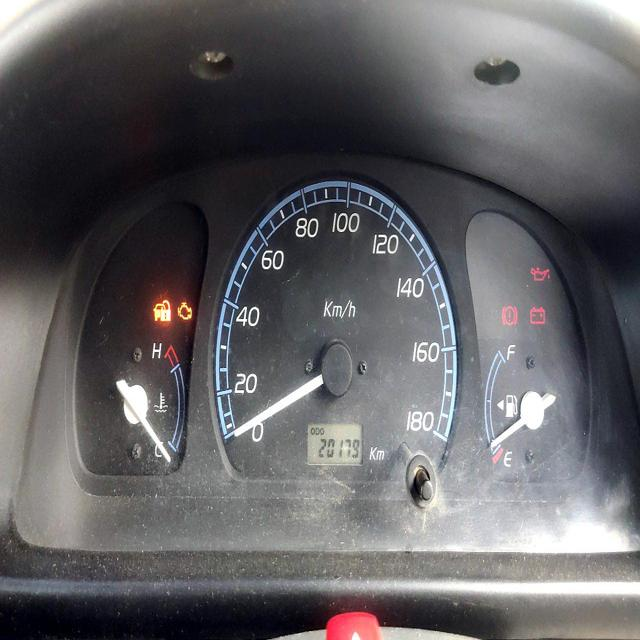odometer: (317, 436, 360, 460)
